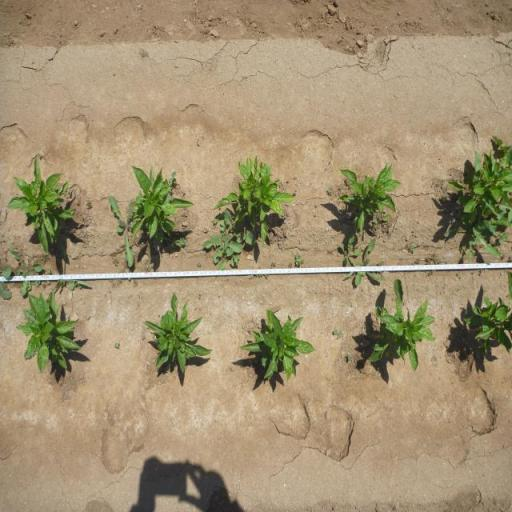plant: (364, 278, 439, 379), (5, 154, 77, 255), (213, 154, 295, 242), (239, 305, 322, 383), (143, 291, 215, 377), (14, 289, 82, 378), (129, 160, 198, 242), (444, 150, 512, 221), (336, 160, 401, 234)
weed: (441, 208, 512, 261), (200, 208, 257, 270), (108, 193, 136, 269), (346, 236, 385, 289), (8, 245, 45, 299), (56, 240, 91, 292), (338, 231, 362, 266), (156, 232, 186, 251), (374, 213, 390, 229), (424, 252, 442, 264), (107, 278, 123, 288), (295, 252, 305, 267), (333, 327, 341, 340), (86, 199, 95, 210), (426, 268, 435, 278), (255, 274, 270, 280), (146, 262, 154, 272), (112, 256, 120, 266), (40, 255, 48, 265), (270, 260, 276, 270), (133, 278, 138, 288), (410, 244, 416, 252), (414, 257, 420, 265), (346, 353, 352, 361), (378, 260, 386, 266), (114, 341, 120, 349), (327, 187, 333, 194), (292, 189, 298, 196), (478, 269, 483, 277), (68, 190, 73, 198), (461, 246, 467, 252), (46, 268, 52, 274), (288, 262, 293, 269), (196, 262, 202, 267), (46, 280, 51, 286)
